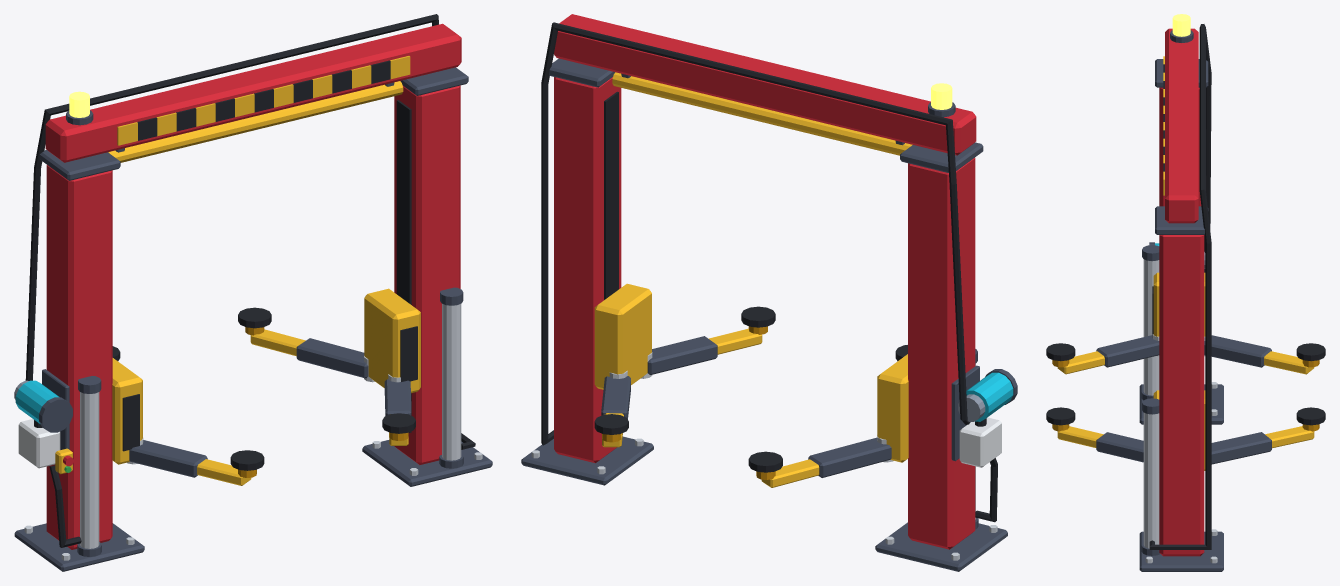
Rendered from TwoPostLift.fbx.
3 views of the same model, side by side, from view 1: azimuth 30°, elevation 25°; view 2: azimuth 150°, elevation 25°; view 3: azimuth 270°, elevation 25° (orthographic). The views are drawn at different scales.
Parts seen in each view (by area): view 1: TwoPostLift; view 2: TwoPostLift; view 3: TwoPostLift, Neon_Yellow.
Boxes of the visible parts, x1,y1,x2,y2 form: TwoPostLift: (14, 14, 492, 571); TwoPostLift: (521, 14, 1017, 571); TwoPostLift: (1046, 24, 1325, 571); Neon_Yellow: (1172, 14, 1190, 36).
Size of the model in its own units: 15.9 by 15.3 by 9.94.
Materials: 2 (1 with a texture image).
